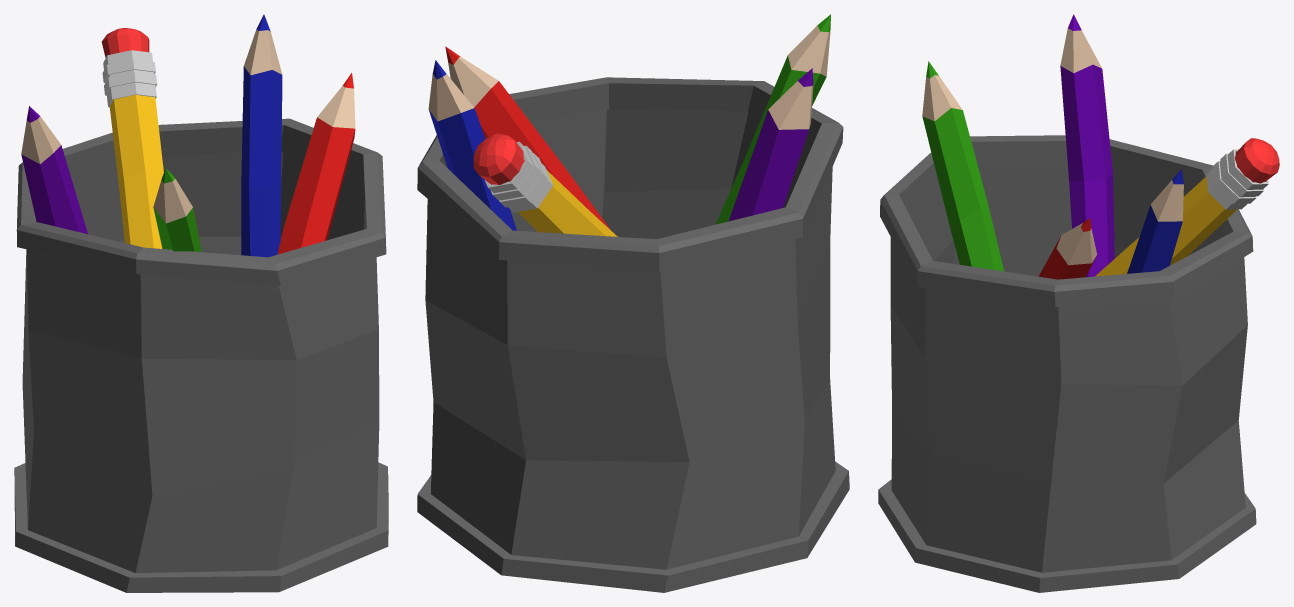
Rendered from Pencil Cup.fbx.
The picture shows the model from 3 angles, left to right: view 1: azimuth 30°, elevation 25°; view 2: azimuth 150°, elevation 25°; view 3: azimuth 270°, elevation 25°; orthographic projection. The views are drawn at different scales.
Parts seen in each view (by area): view 1: Cup; view 2: Cup; view 3: Cup.
Part boxes in pixels (<box>): Cup: <box>14,14,388,592</box>; Cup: <box>417,14,849,592</box>; Cup: <box>878,14,1279,592</box>.
Bounding box in the file's own units: 148 × 181 × 156.
